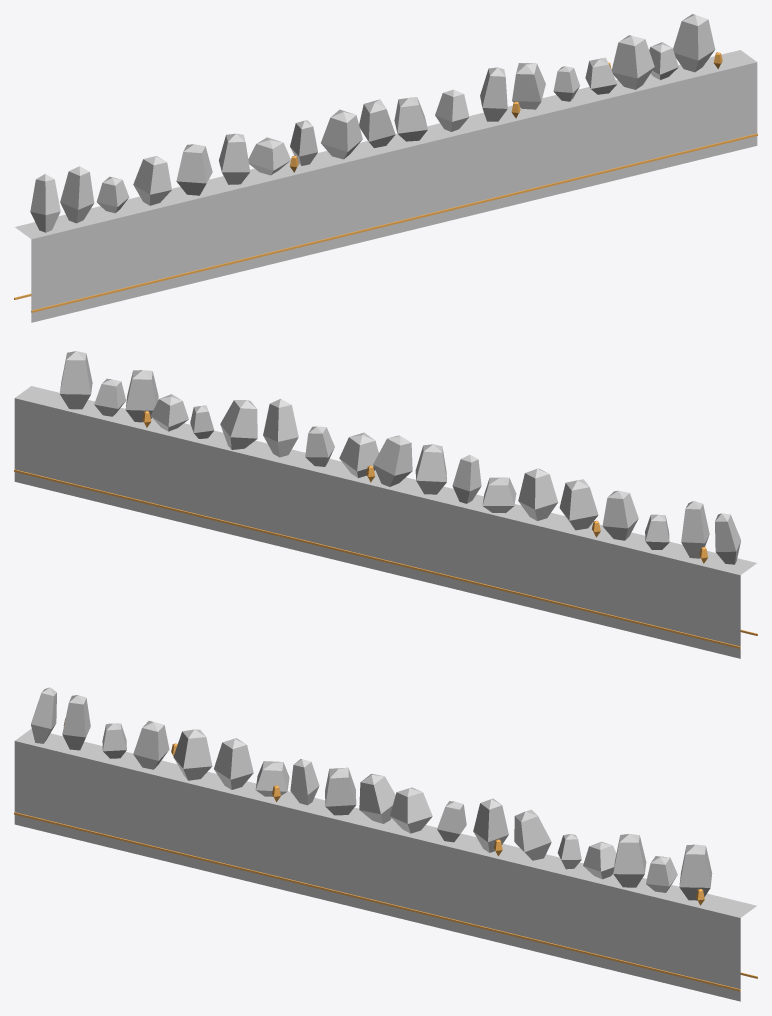
File: ChaosWall.glb
3 views of the same model, one above another, from view 1: azimuth 30°, elevation 25°; view 2: azimuth 150°, elevation 25°; view 3: azimuth 330°, elevation 25° (orthographic).
Parts seen in each view (by area): view 1: Body, Glow; view 2: Body, Glow; view 3: Body, Glow.
Boxes of the visible parts, x1,y1,x2,y2 form: Body: (15,14,757,322); Glow: (14,52,757,312); Body: (14,351,756,658); Glow: (14,411,757,648); Body: (14,687,756,1001); Glow: (14,718,757,991).
Size of the model in its own units: 40 by 7.25 by 2.36.
